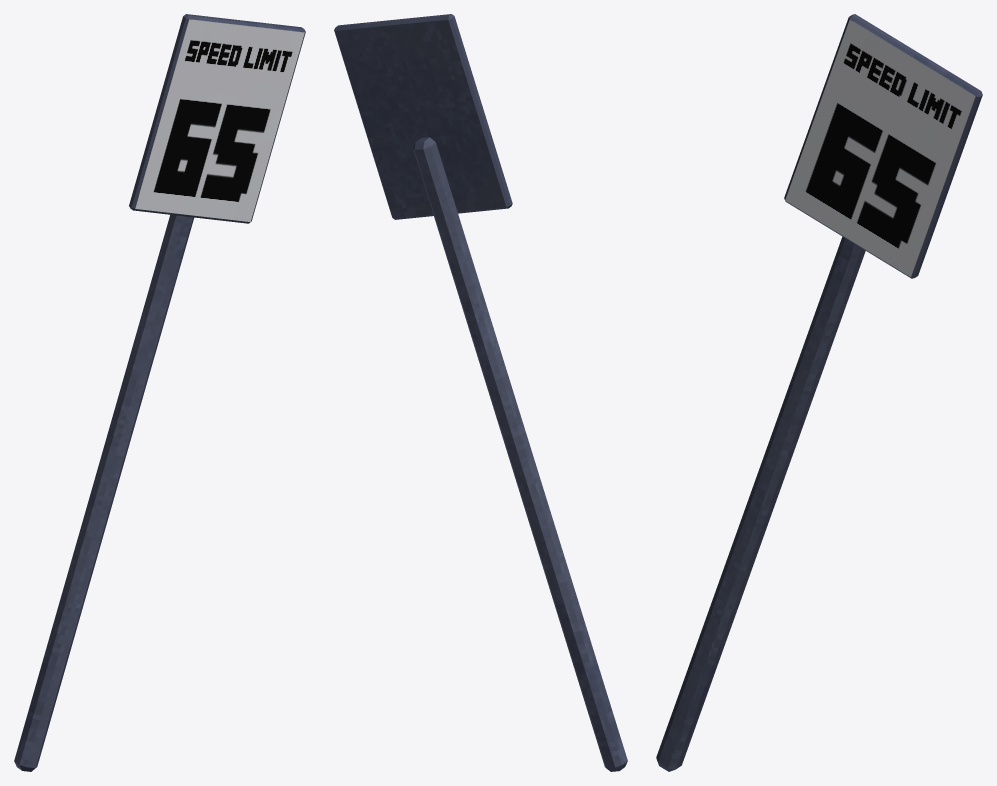
File: streetsign_animated.fbx
3 renders of one model, left to right at view 1: azimuth 30°, elevation 25°; view 2: azimuth 150°, elevation 25°; view 3: azimuth 330°, elevation 25°, orthographic. The views are drawn at different scales.
Parts seen in each view (by area): view 1: streetsign_low; view 2: streetsign_low; view 3: streetsign_low.
Boxes of the visible parts, x1,y1,x2,y2 form: streetsign_low: [14, 14, 305, 771]; streetsign_low: [334, 14, 627, 771]; streetsign_low: [656, 14, 982, 771].
Bounding box in the file's own units: 2.85 × 6.74 × 0.2932.
